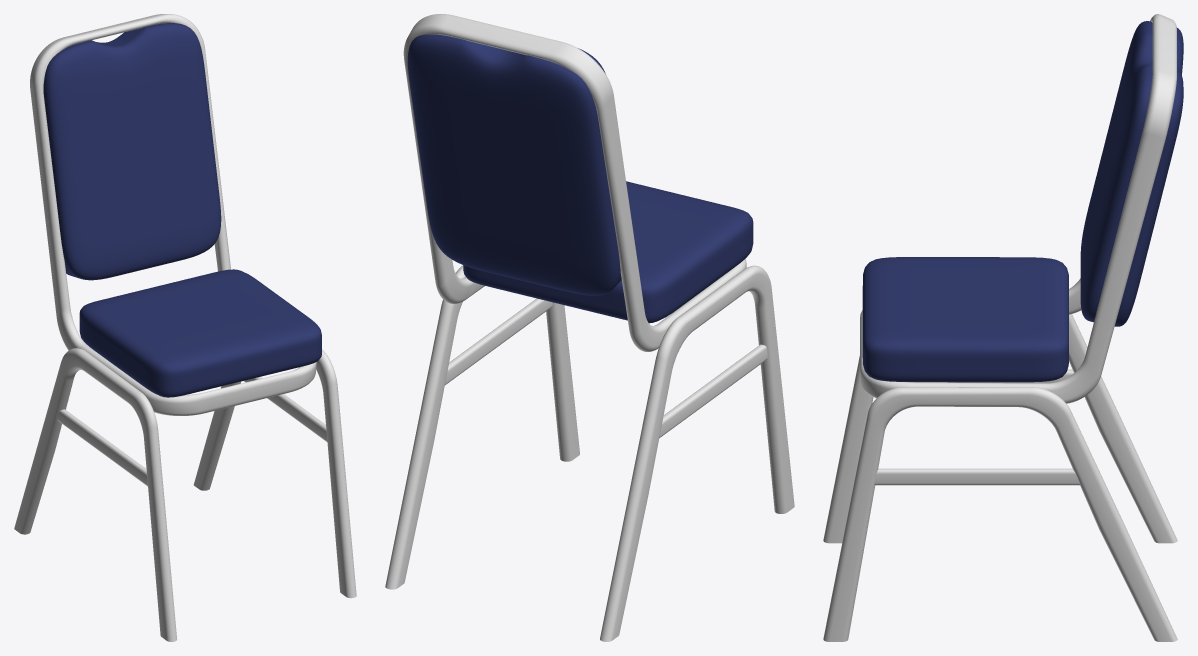
File: chair_kursi_kondangan.glb
The picture shows the model from 3 angles, left to right: view 1: azimuth 30°, elevation 25°; view 2: azimuth 150°, elevation 25°; view 3: azimuth 270°, elevation 25°; orthographic projection. The views are drawn at different scales.
Visible parts, largest first — view 1: Kursi Kondangan_0; view 2: Kursi Kondangan_0; view 3: Kursi Kondangan_0.
Boxes of the visible parts, x1,y1,x2,y2 form: Kursi Kondangan_0: (14, 14, 356, 641); Kursi Kondangan_0: (385, 14, 794, 641); Kursi Kondangan_0: (823, 14, 1183, 641).
Size of the model in its own units: 0.3621 by 0.8849 by 0.53.
